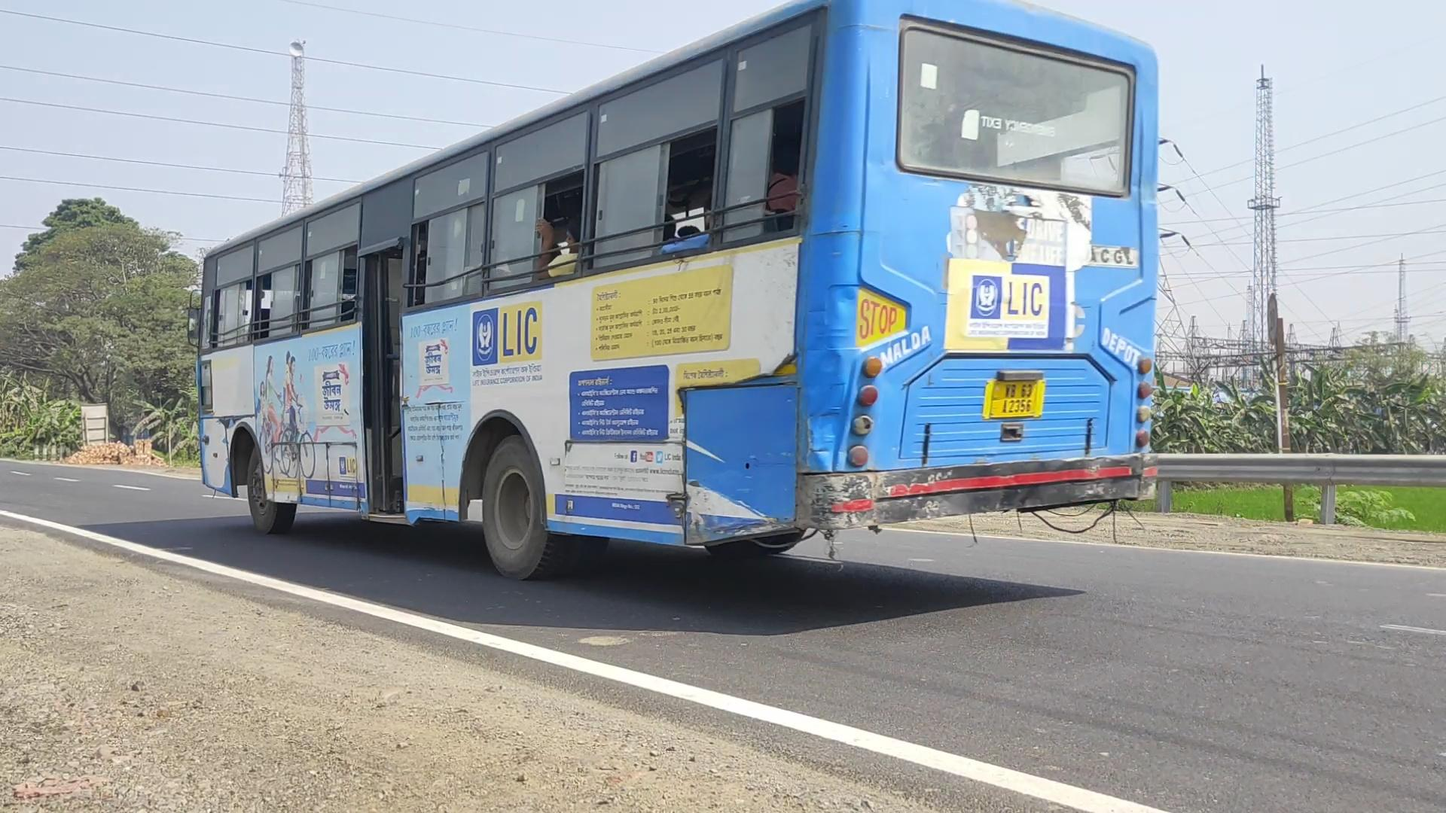Bus: (188, 2, 1158, 581)
